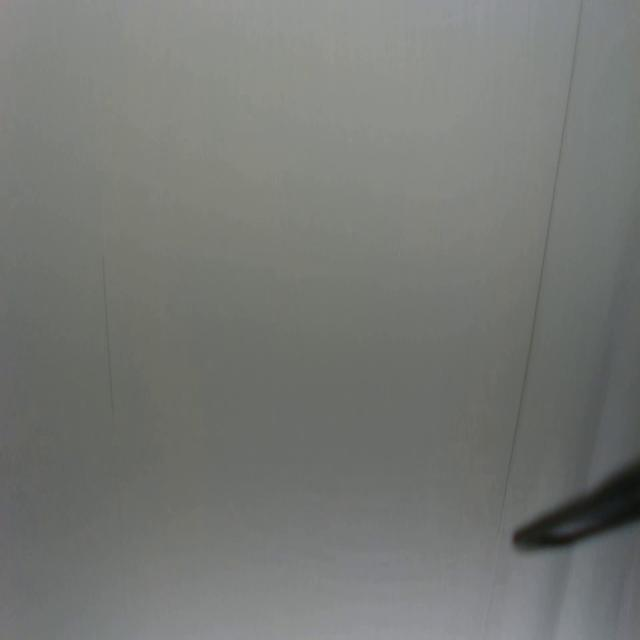crease: (510, 0, 581, 461), (482, 470, 510, 633), (100, 251, 116, 419)
